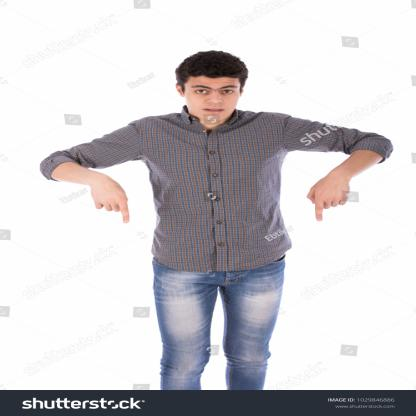Down: (67, 174, 146, 230), (296, 177, 372, 230)
